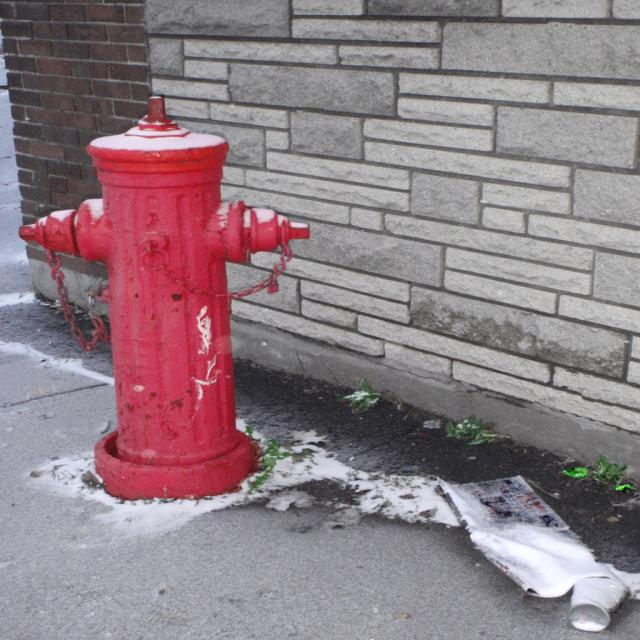fire_hydrant: (18, 96, 312, 499)
